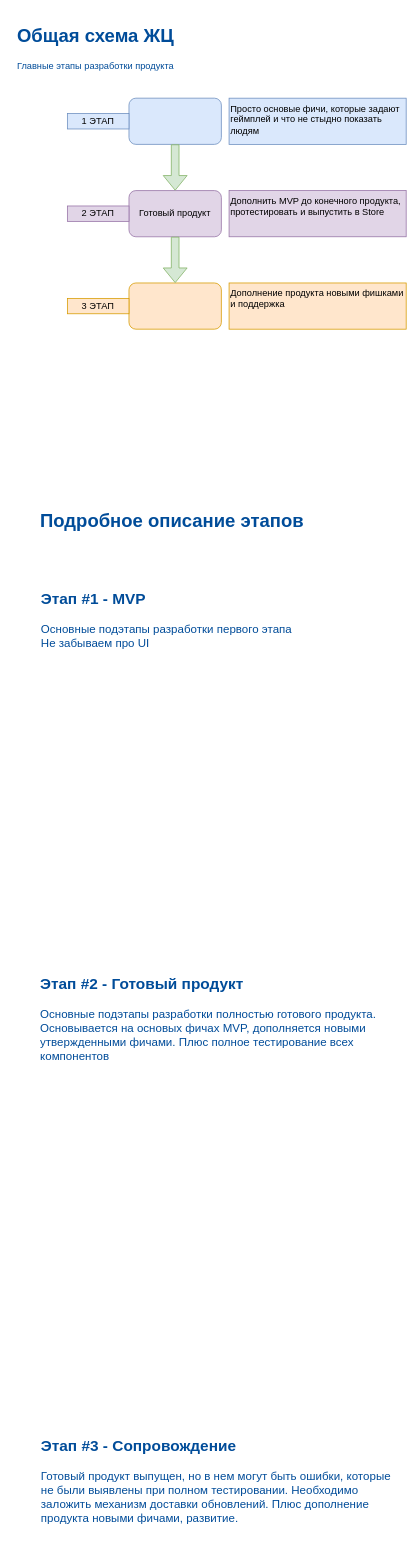
Image size: 420x1566. Some labels were removed from this diagram. Each missing label, with the centre of its shape:
"MVP ( Minimum Viable Product )" goes at point 174,120.
"Сопровождение" goes at point 174,305.
